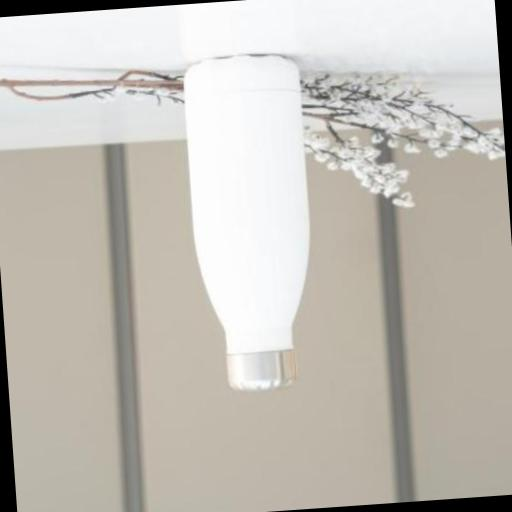Coca: (164, 40, 337, 406)
